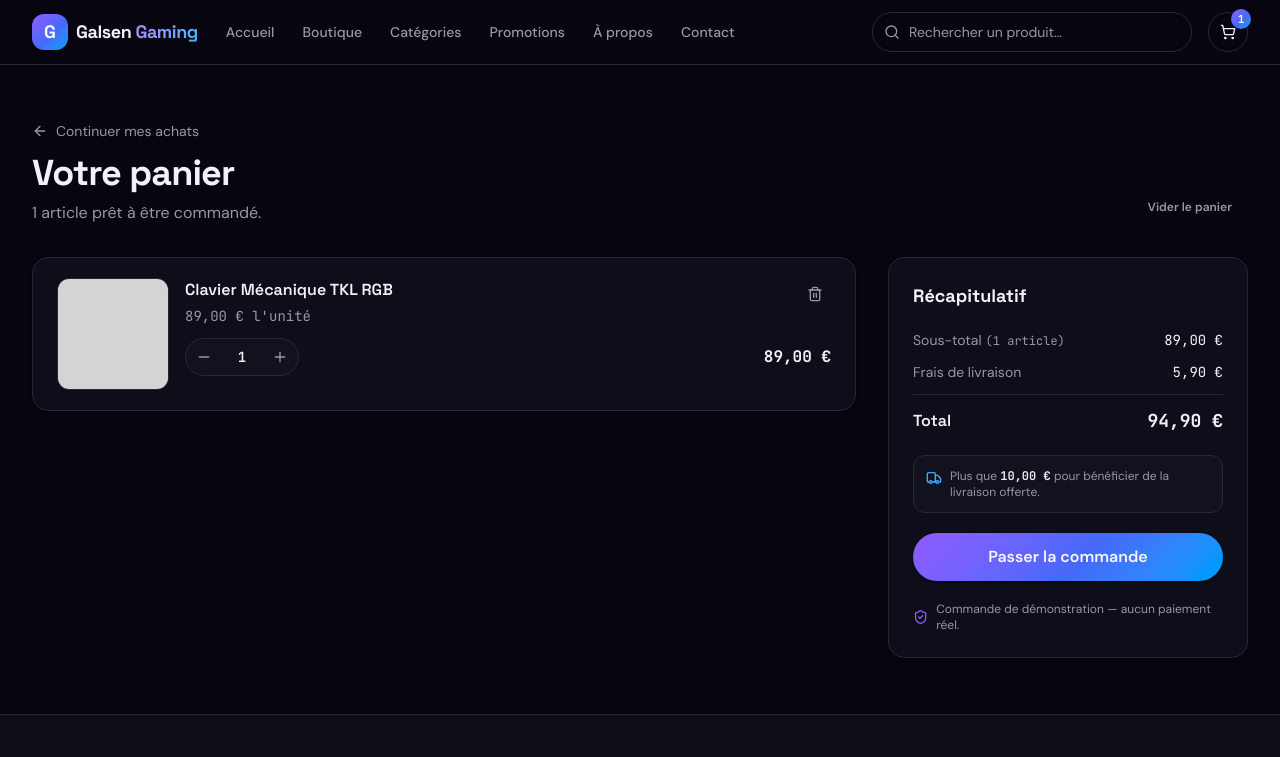
CartPage › increments a line quantity and updates the total
Check: the link "Clavier Mécanique TKL RGB" is shown, box [185,278,393,302]
Click the button named "Augmenter la quantité de Clavier Mécanique TKL RGB": (280,357) [262,339,298,375]
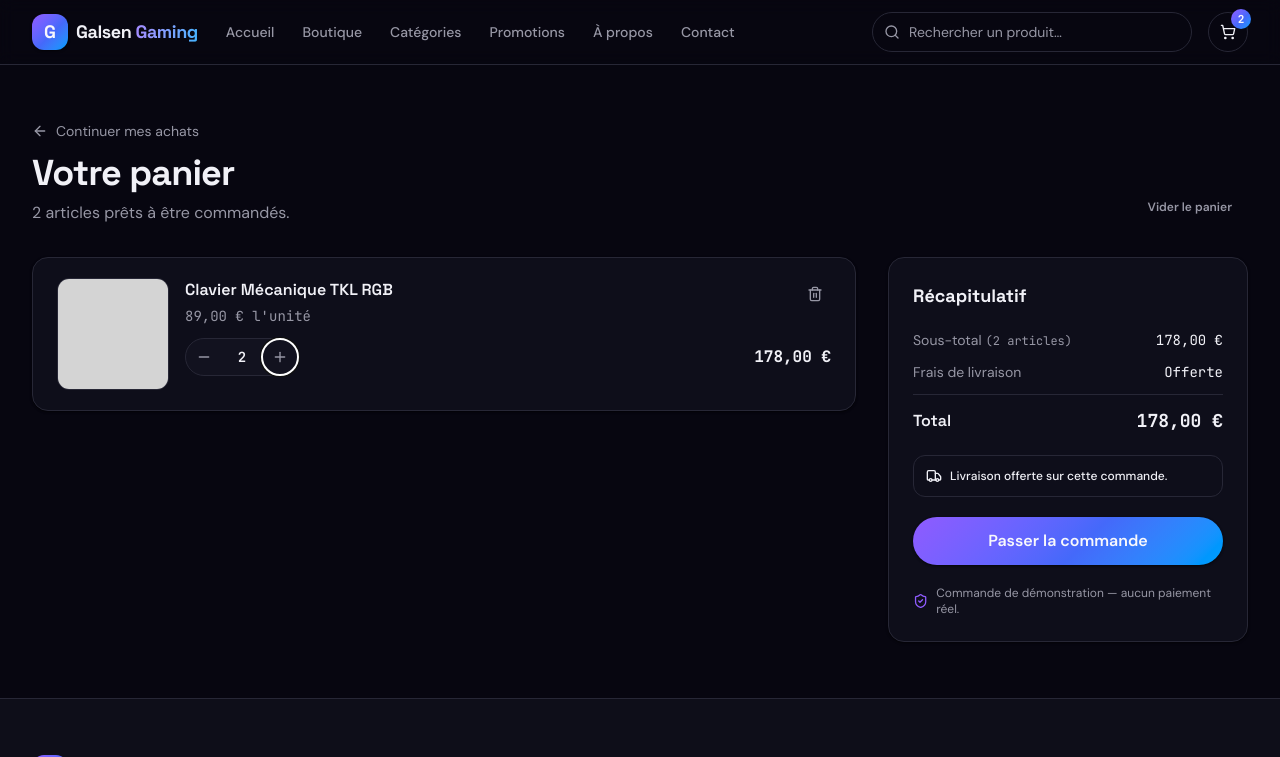
Check: the text "2" below "89,00 €" is shown, box [238,348,246,366]
Check: the 3rd text "178,00 €" is shown, box [1137,407,1223,435]
